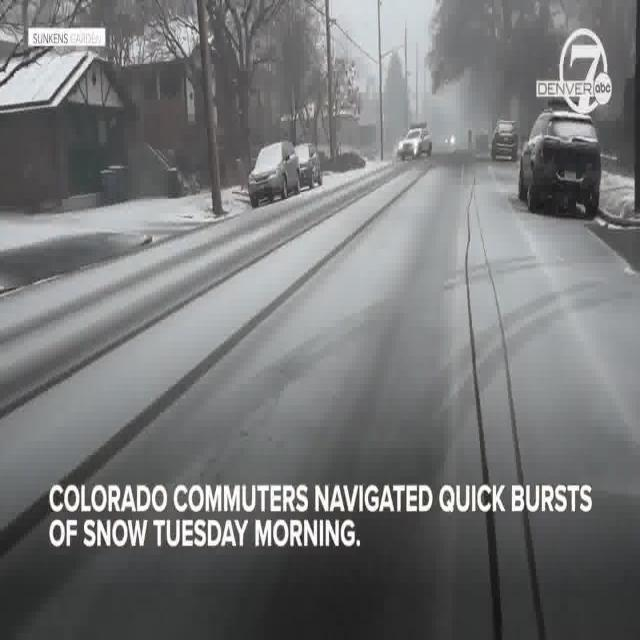Car: (514, 111, 610, 221), (240, 128, 296, 192), (396, 105, 436, 177), (295, 132, 324, 194), (490, 118, 520, 171)
